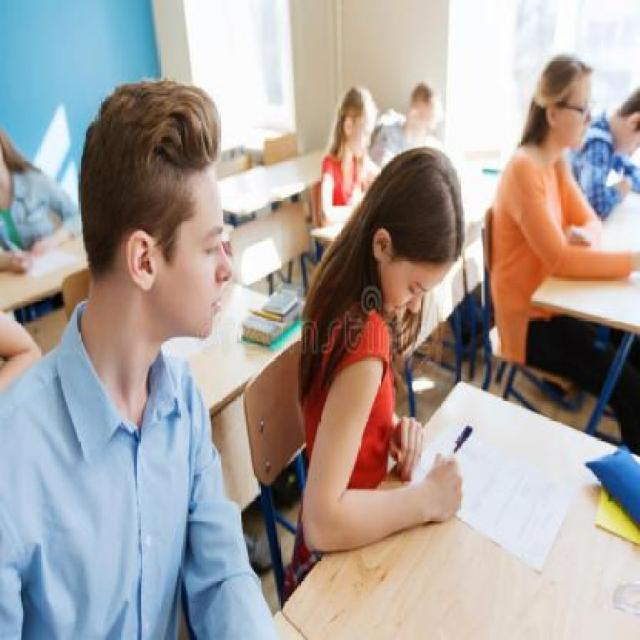cheating: (34, 65, 255, 417)
good: (295, 133, 483, 550)
